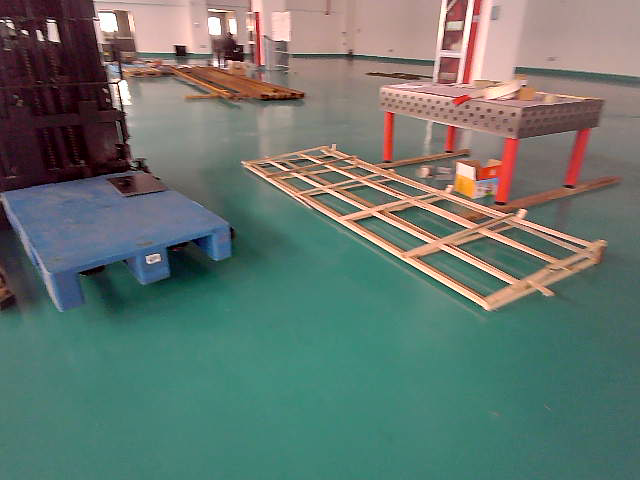block: (43, 265, 82, 311), (136, 243, 170, 284), (211, 225, 231, 260)
front: (50, 225, 232, 314)
hole pallet: (75, 256, 143, 304), (165, 236, 216, 276)
